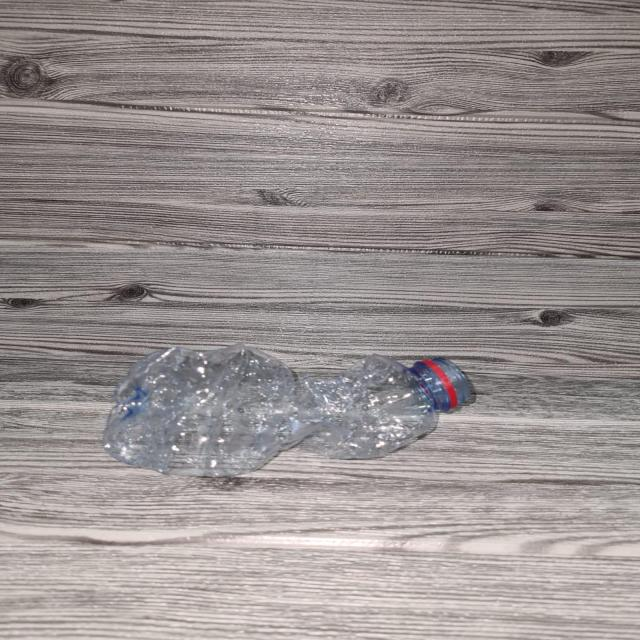bottle: (104, 342, 480, 478)
